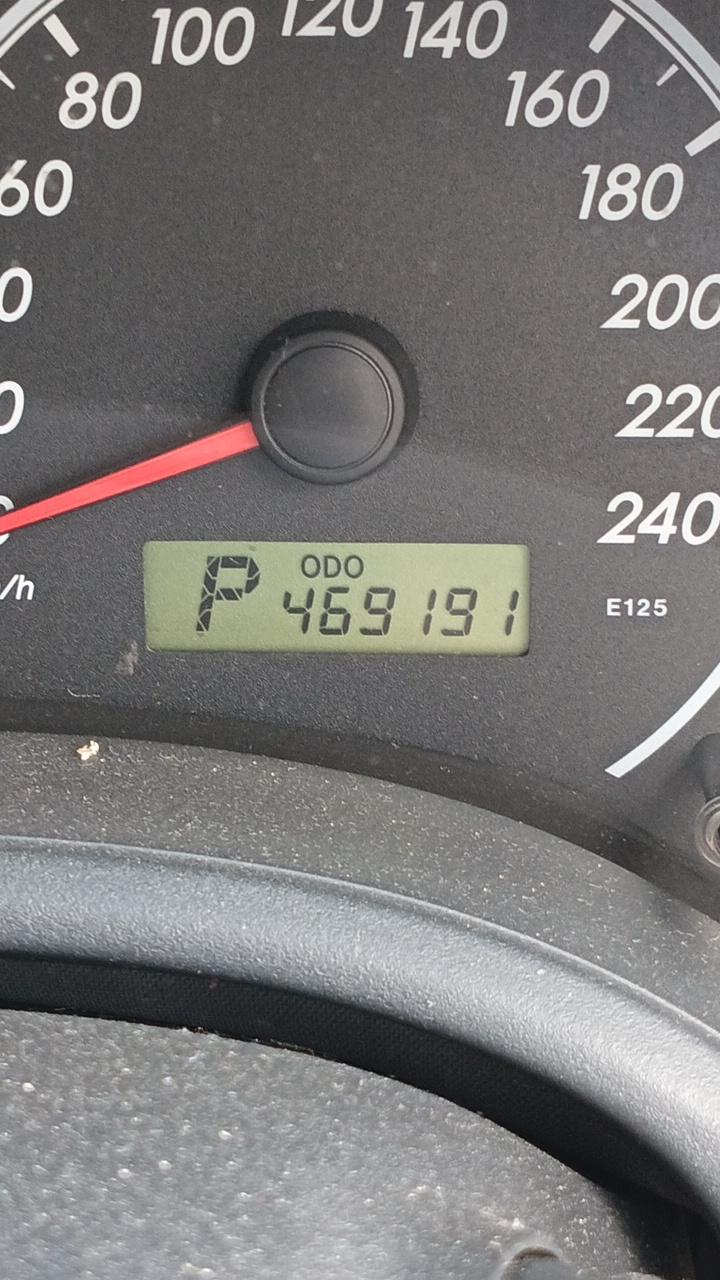1: (418, 587, 438, 636), (502, 588, 520, 639)
4: (281, 587, 316, 636)
6: (319, 587, 353, 636)
9: (439, 587, 479, 637), (358, 586, 396, 636)
X: (193, 554, 261, 634), (300, 554, 321, 579), (343, 555, 364, 579), (323, 554, 342, 579)
odometer: (141, 539, 533, 662)
